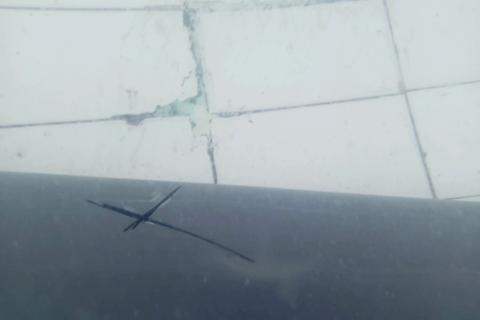keretakan: (81, 184, 259, 266)
